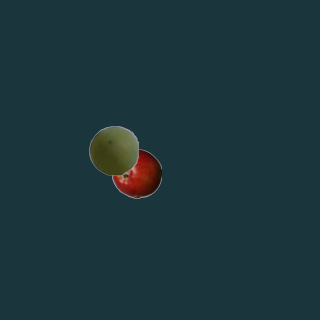Apple Braeburn: (111, 148, 161, 198)
Grape White 4: (88, 125, 138, 175)
